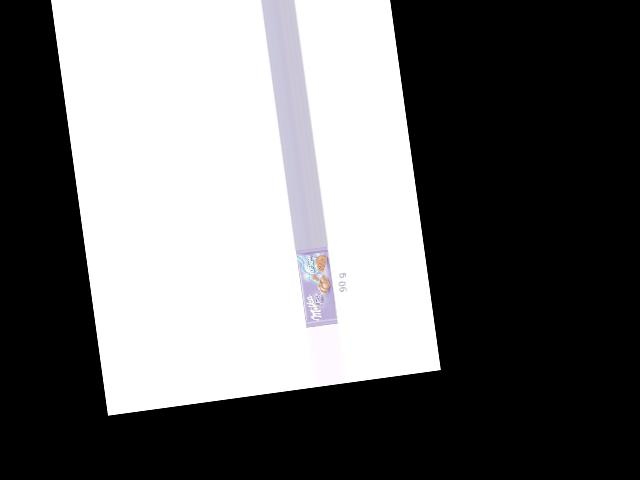chocolate: (295, 245, 337, 326)
